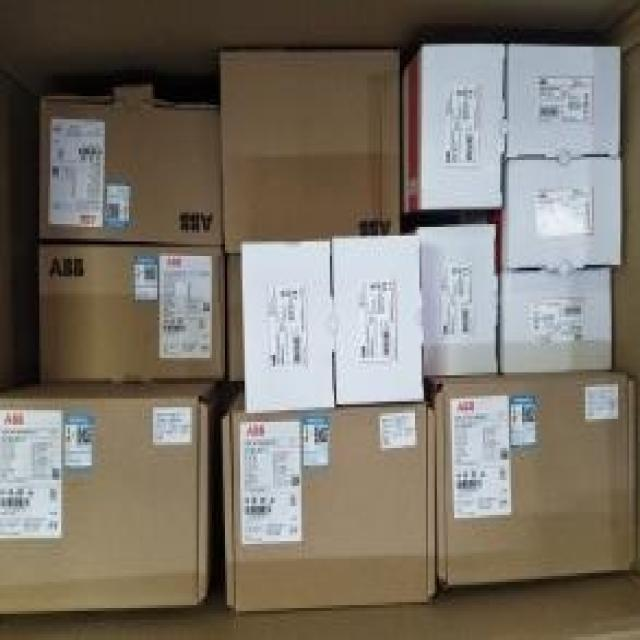box: (0, 379, 216, 617), (224, 392, 434, 608), (432, 369, 638, 586), (221, 50, 401, 253), (39, 95, 222, 246), (39, 246, 224, 381), (400, 46, 504, 213), (332, 226, 423, 405), (241, 241, 335, 412), (498, 157, 620, 271), (506, 44, 622, 157), (413, 227, 497, 378), (499, 269, 611, 374), (226, 253, 246, 381)
